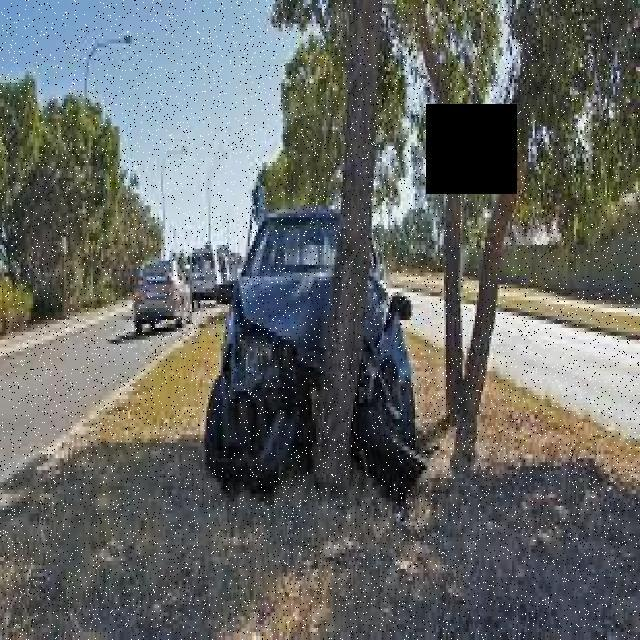moderate: (201, 197, 420, 494)
